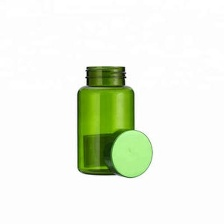bottle: (71, 59, 138, 177)
